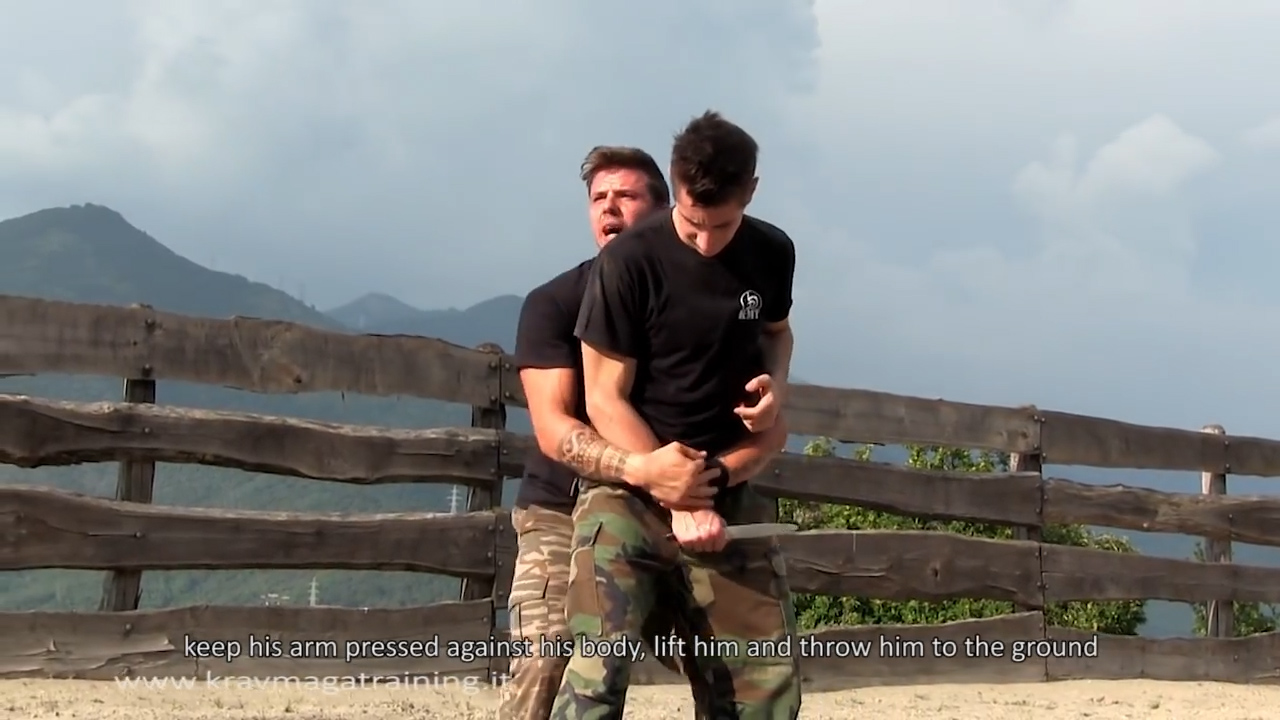knife: (660, 514, 808, 552)
